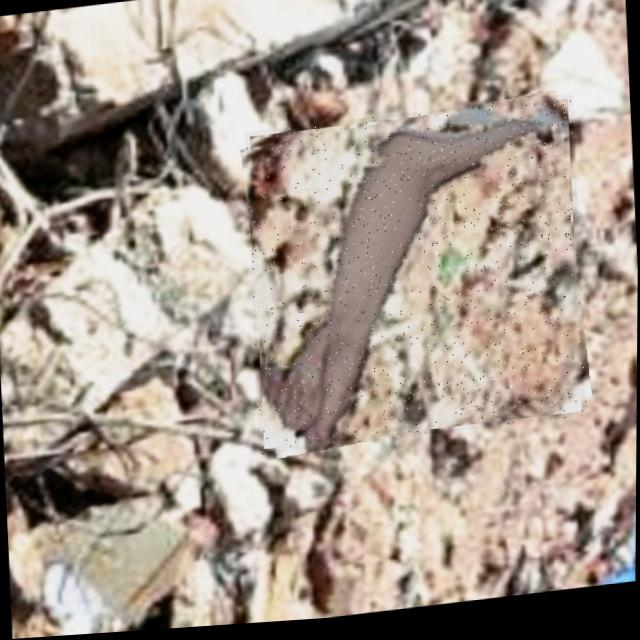Person in Rubble: (242, 101, 589, 460)
